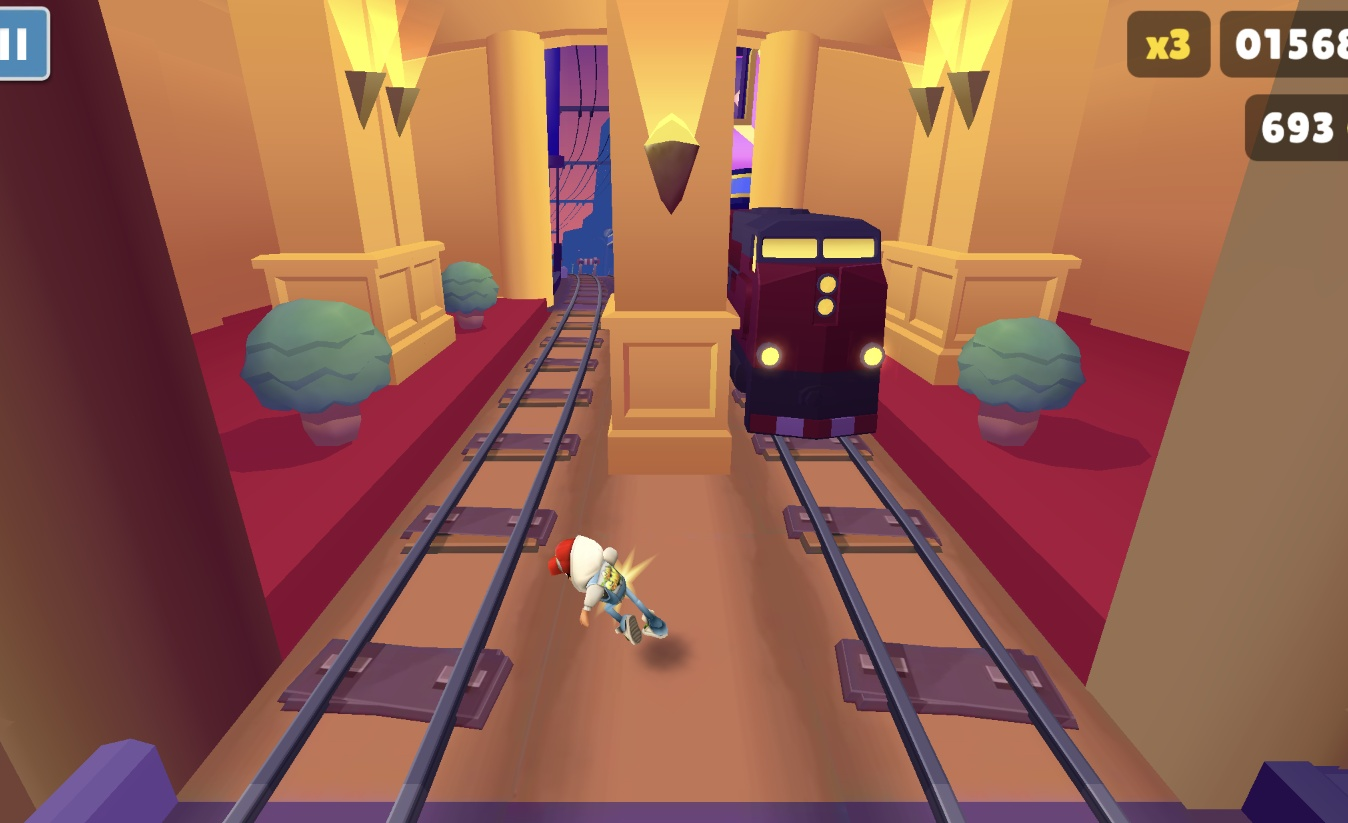ground_barrier: (576, 260, 603, 277)
pillar: (607, 0, 741, 476)
train: (728, 207, 886, 440)
